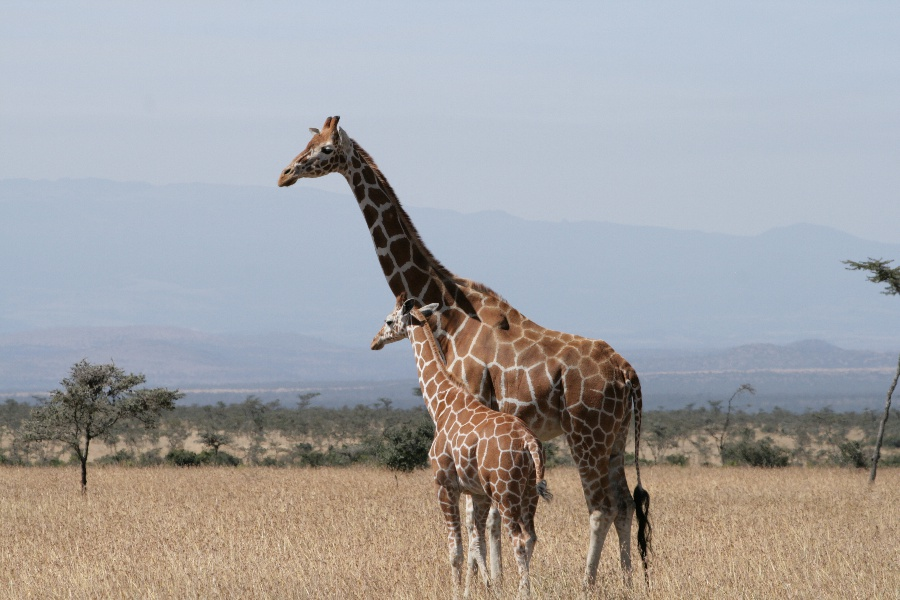giraffe: (269, 108, 666, 596), (357, 288, 556, 599)
